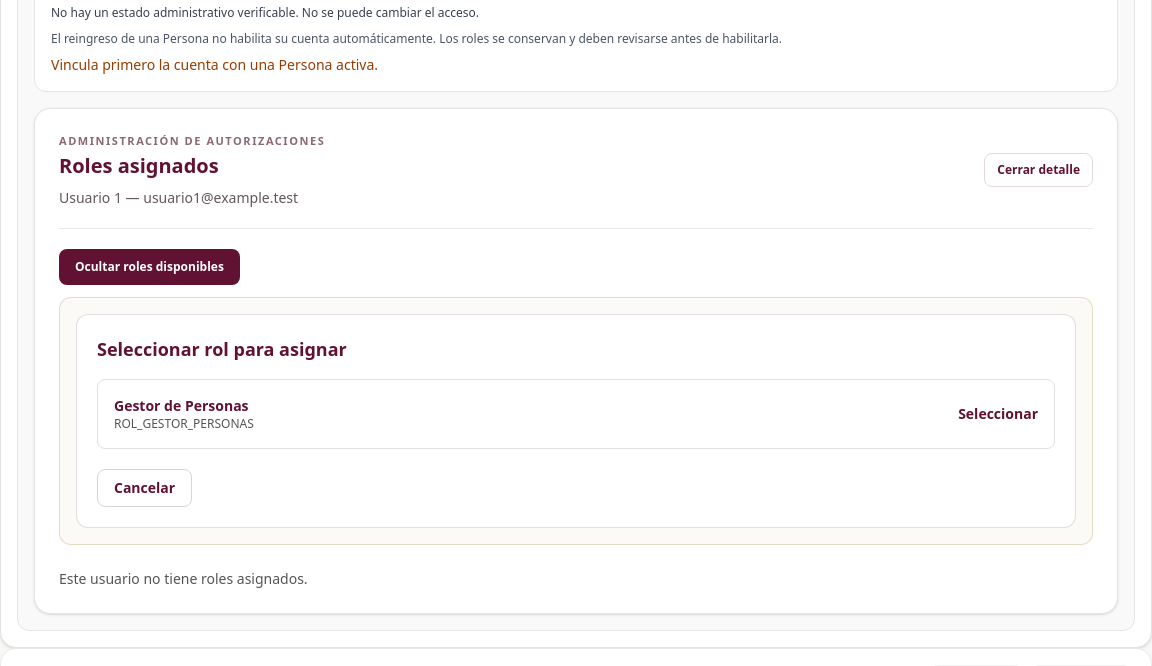
Scenario: UsersPageComponent › abre la confirmacion al seleccionar un rol disponible
(page scrolled)
Click the button with test id "select-available-role" at (181, 406), box [97,379,1055,449]
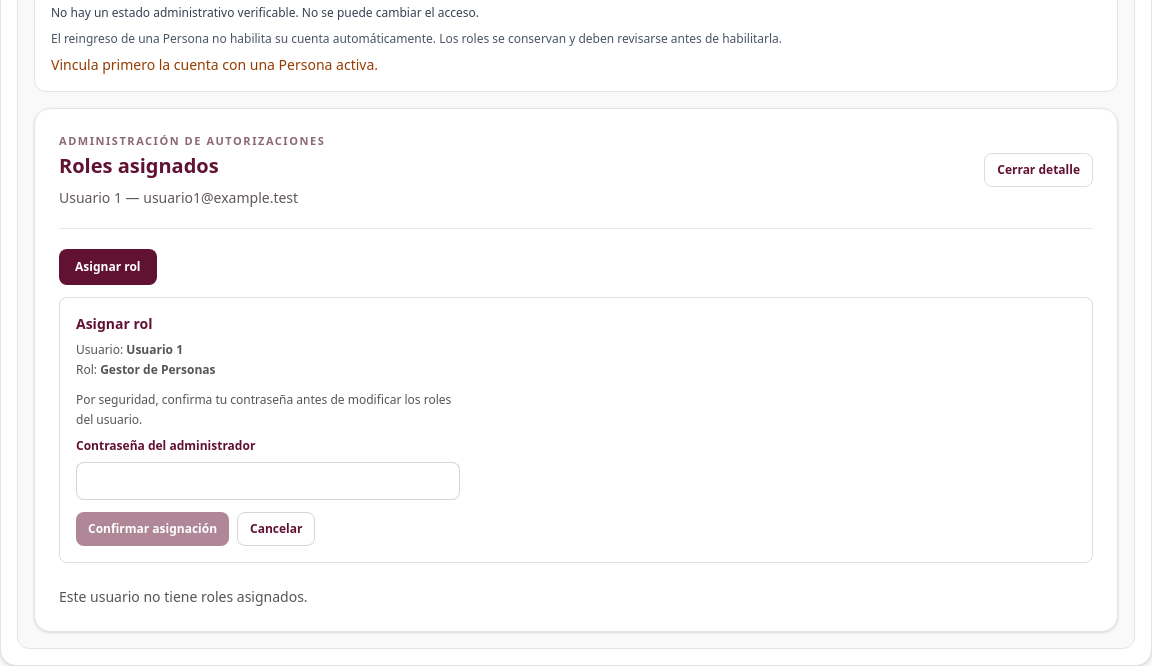
Expected: the text "Confirmar asignación" is shown, [76,512,229,546]
Expected: the button with test id "confirm-user-role-operation" is disabled, [76,512,229,546]
